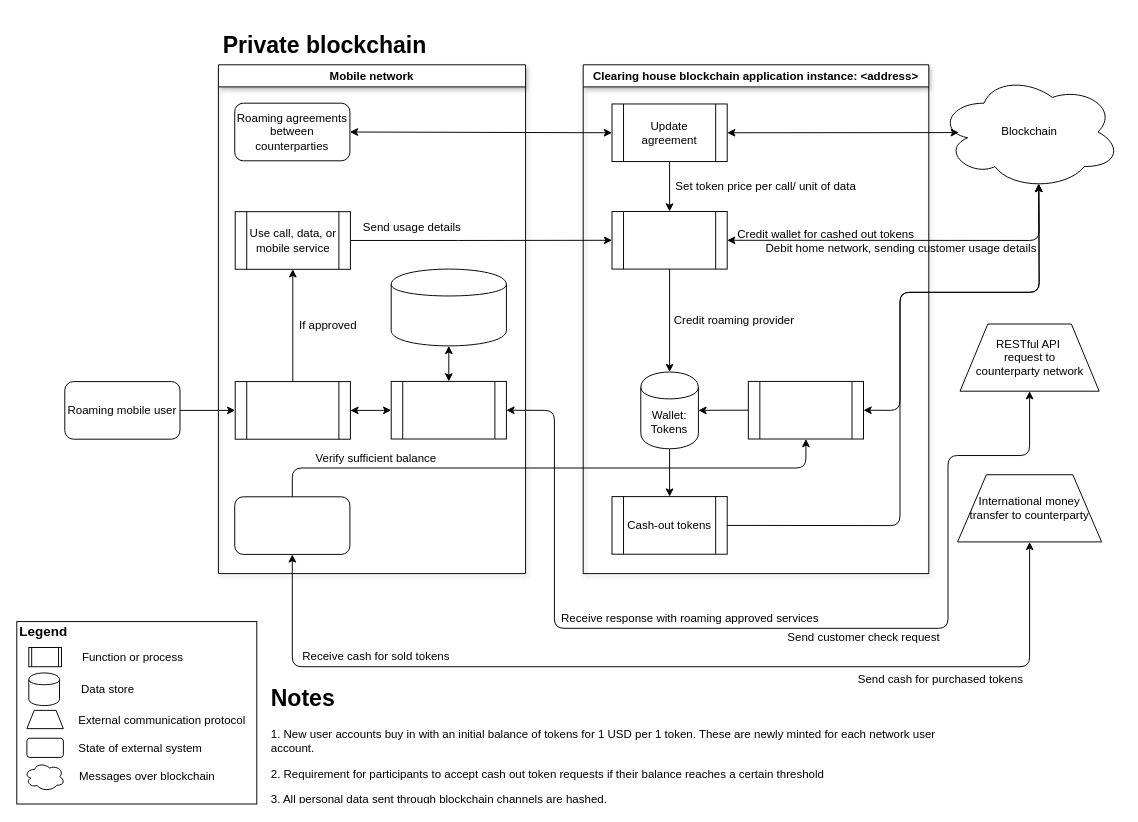
Image size: 1138x822. Some labels were removed from this diagram. Each missing label, with the centre of its shape:
Bank balances: (292,525)
Check Customer: (448,409)
Customer database: (448,307)
Mobile authentication: (292,410)
Purchase tokens: (805,409)
Update token balance: (669,240)
